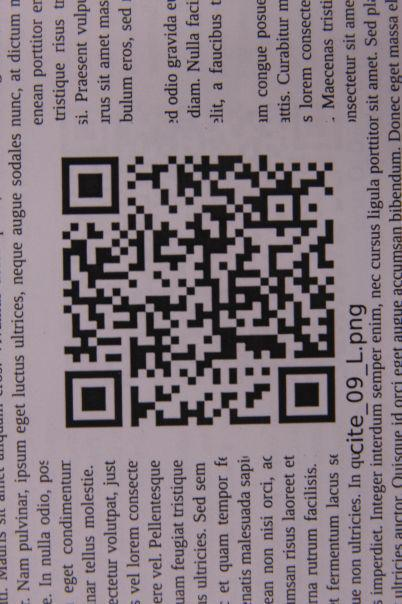Finder pattern: (50, 146, 128, 222), (59, 364, 130, 434), (272, 360, 340, 429)
